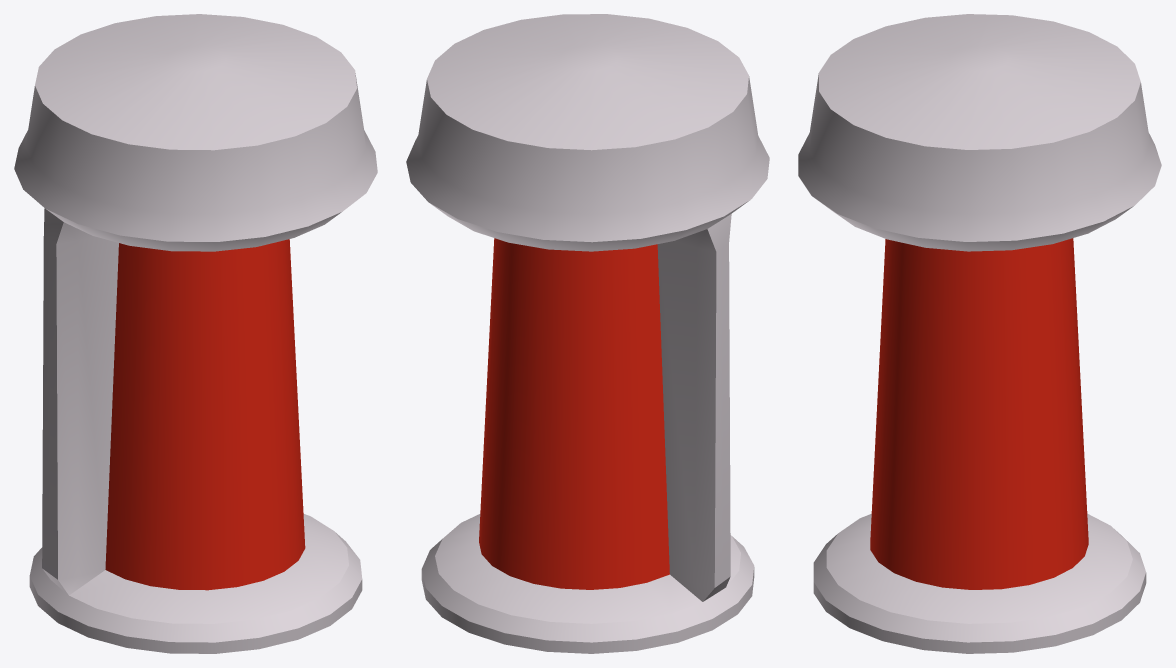
File: Teleporter.fbx
3 views of the same model, side by side, from view 1: azimuth 30°, elevation 25°; view 2: azimuth 150°, elevation 25°; view 3: azimuth 270°, elevation 25° (orthographic).
Visible parts, largest first — view 1: Teleporter, Glass; view 2: Teleporter, Glass; view 3: Teleporter, Glass.
Boxes of the visible parts, left/top/right/bottom form: Teleporter: left=14, top=14, right=377, bottom=653; Glass: left=105, top=239, right=305, bottom=590; Teleporter: left=406, top=14, right=769, bottom=653; Glass: left=479, top=238, right=669, bottom=589; Teleporter: left=798, top=14, right=1161, bottom=653; Glass: left=870, top=238, right=1088, bottom=589.
Bounding box in the file's own units: 338 × 539 × 338.
